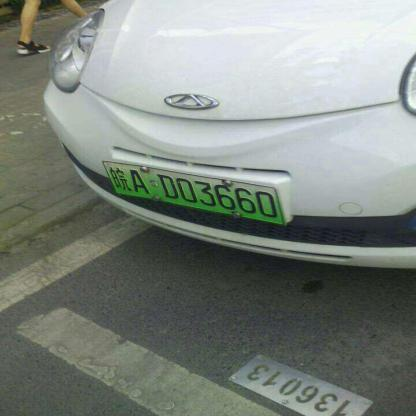lp: (100, 158, 286, 226)
